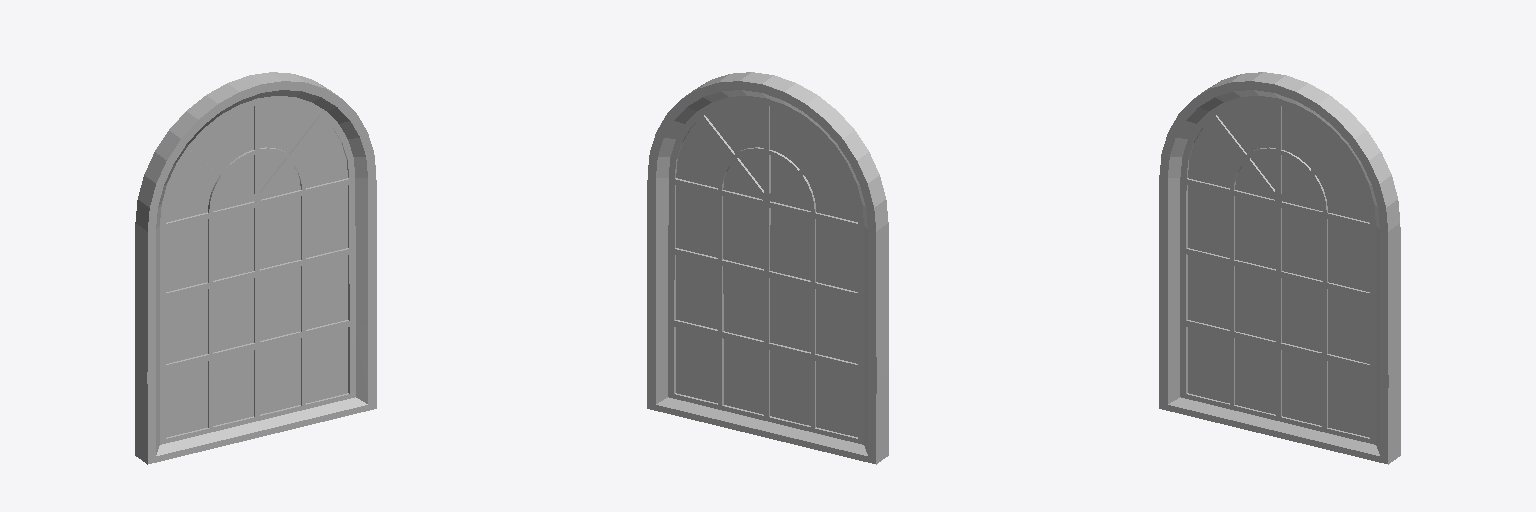
Rendered from Arched Window.obj.
3 views of the same model, side by side, from view 1: azimuth 30°, elevation 25°; view 2: azimuth 150°, elevation 25°; view 3: azimuth 330°, elevation 25° (orthographic).
Visible parts, largest first — view 1: glass, window; view 2: glass, window; view 3: glass, window.
Boxes of the visible parts, <box> form: glass: <box>166,102,347,437</box>; window: <box>135,72,376,464</box>; glass: <box>676,102,857,436</box>; window: <box>647,72,888,464</box>; glass: <box>1188,102,1369,437</box>; window: <box>1159,72,1400,464</box>.
Size of the model in its own units: 55.06 by 80.92 by 5.06.